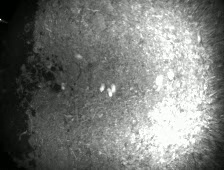corn: (152, 72, 165, 87), (97, 80, 107, 94), (105, 86, 115, 99), (72, 51, 84, 61), (108, 81, 117, 94), (59, 81, 67, 91)
